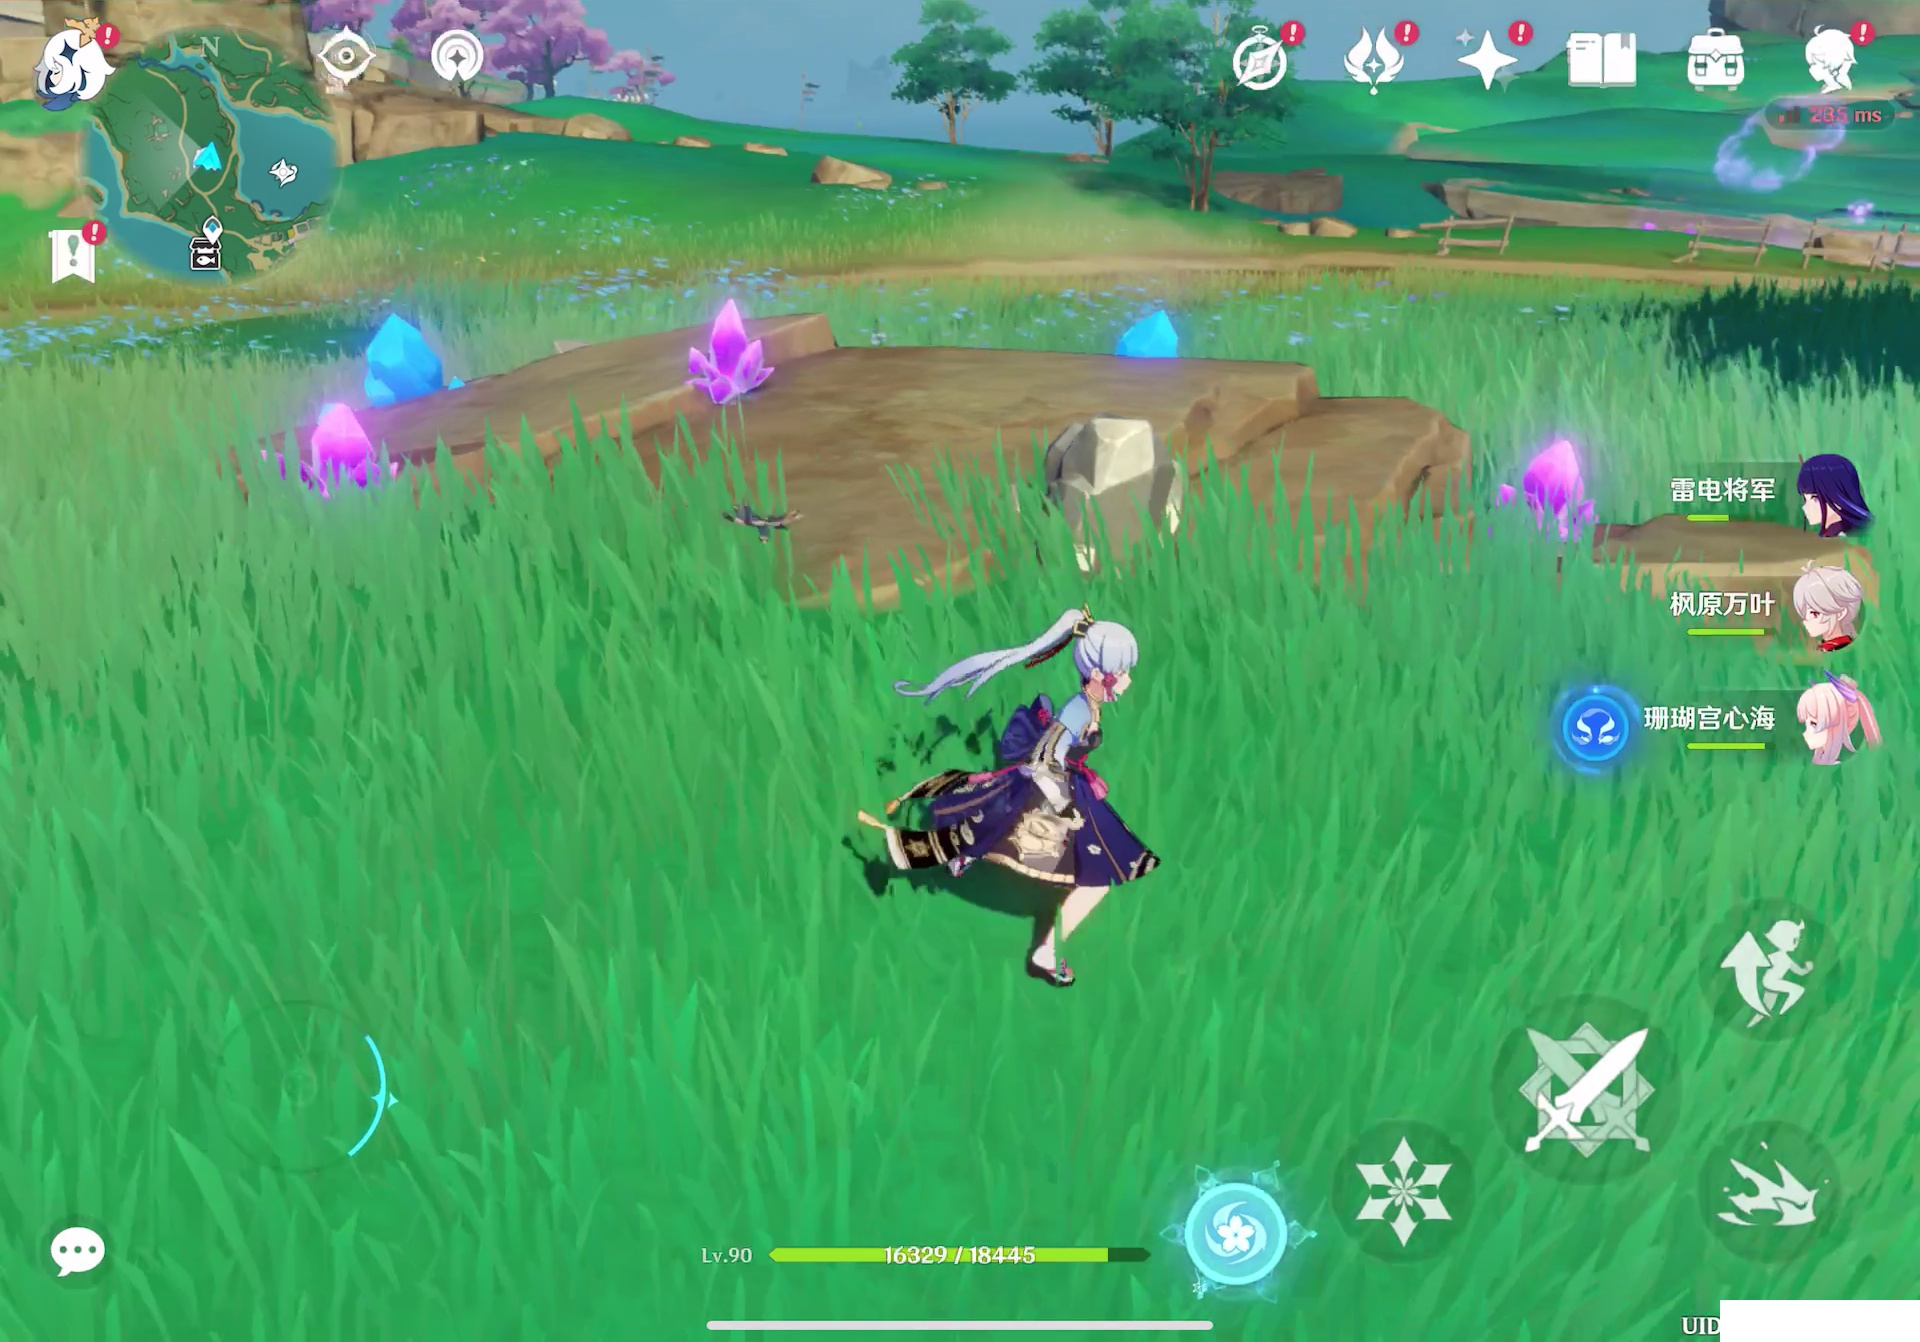白铁矿石: (1040, 407, 1202, 570)
神里绫龟: (883, 624, 1170, 973)
紫矿石: (694, 300, 800, 414), (287, 406, 398, 511), (1511, 442, 1608, 540)
蓝矿石: (363, 311, 470, 407), (1102, 306, 1185, 365)
